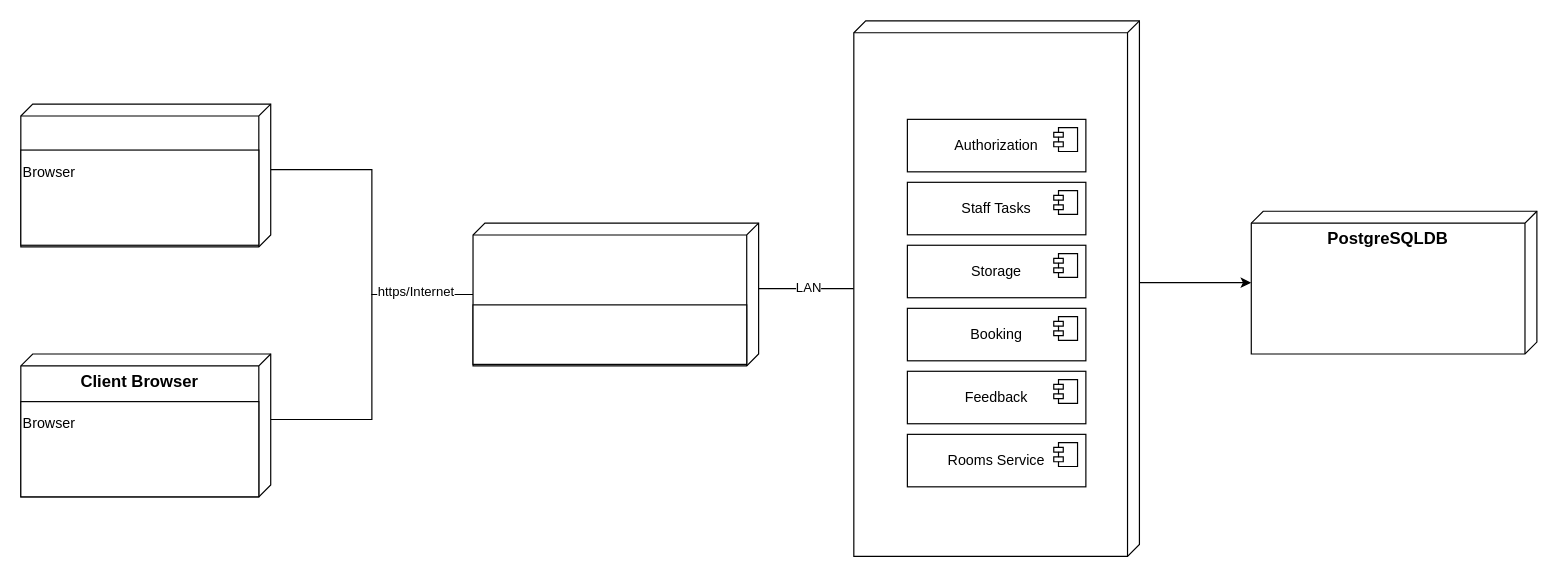
Some shapes in this 1558 by 577 pixel diagram are drawn without their labels. Here are the shapes that lost their labels. From the top down, the box of each, then its label:
(20, 103, 271, 247): Workers Browser
(472, 222, 759, 366): WEB-server {OS = Ubuntu Server} {web server = nginx}
(853, 20, 1139, 556): Application server
